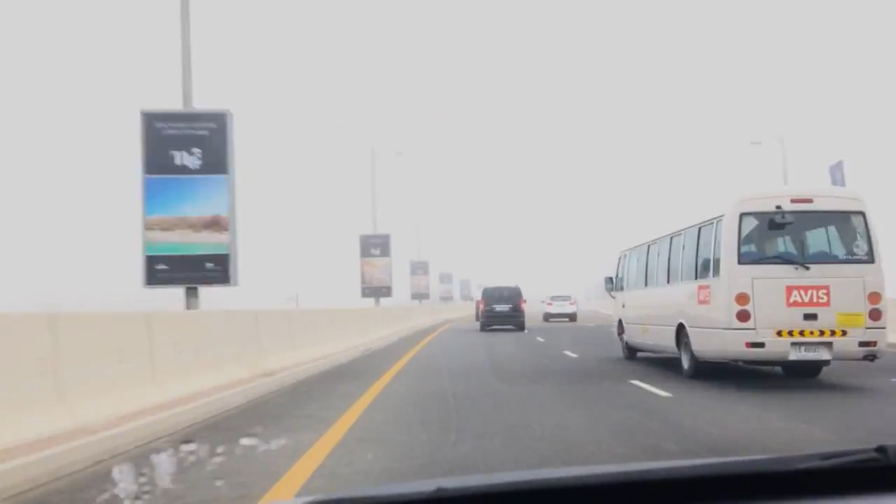bus: (602, 186, 894, 381)
car: (477, 285, 528, 334), (539, 292, 579, 325)
